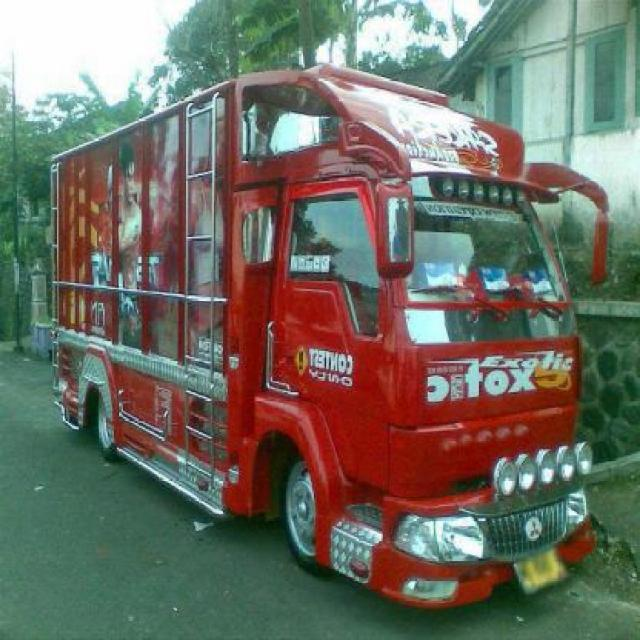truck: (52, 60, 619, 614)
